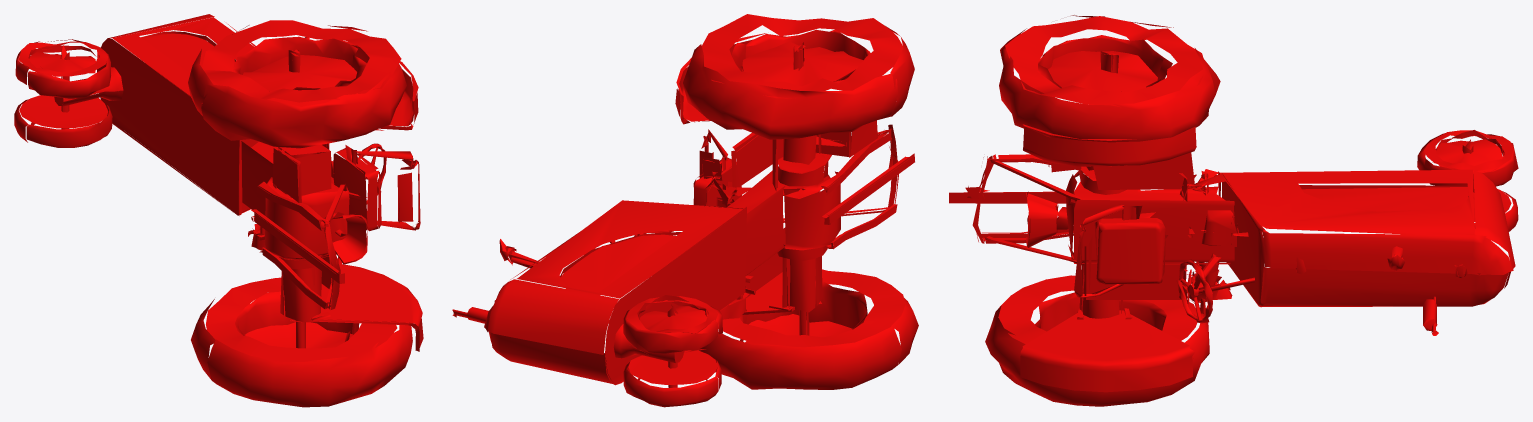
3 renders of one model, left to right at view 1: azimuth 30°, elevation 25°; view 2: azimuth 150°, elevation 25°; view 3: azimuth 270°, elevation 25°, orthographic.
Visible parts, largest first — view 1: Renderer Node; view 2: Renderer Node; view 3: Renderer Node.
Part boxes in pixels (<box>): Renderer Node: <box>14,14,423,407</box>; Renderer Node: <box>452,14,918,407</box>; Renderer Node: <box>949,15,1518,406</box>.
Bounding box in the file's own units: 1.04 × 1.15 × 1.84.
1 material, 1 textured.
